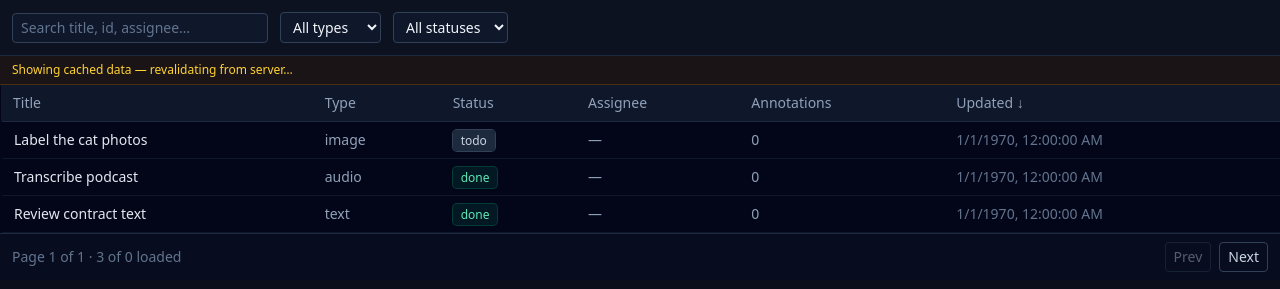
Task filtering interaction › filters rows by type dropdown
Select "Image" in the 1st dropdown showing "All types" at (330, 28), box [280,12,381,43]
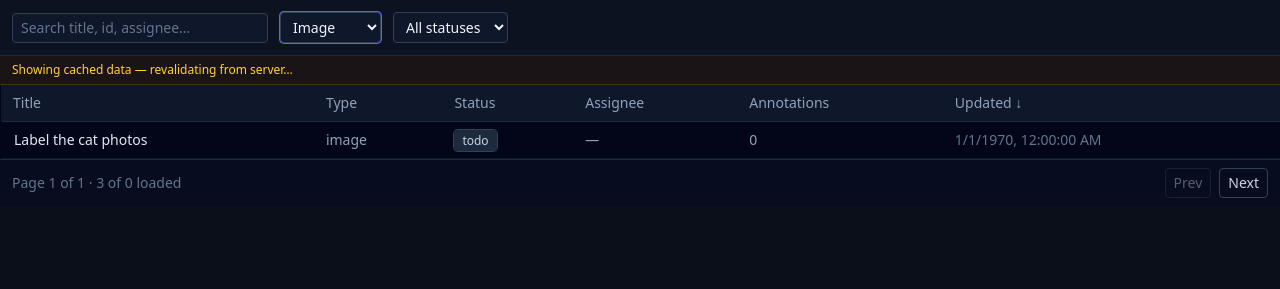
Check: the text "Label the cat photos" is shown, box [1,122,314,158]
Check: the text "Transcribe podcast" is gone
Check: the text "Review contract text" is gone
